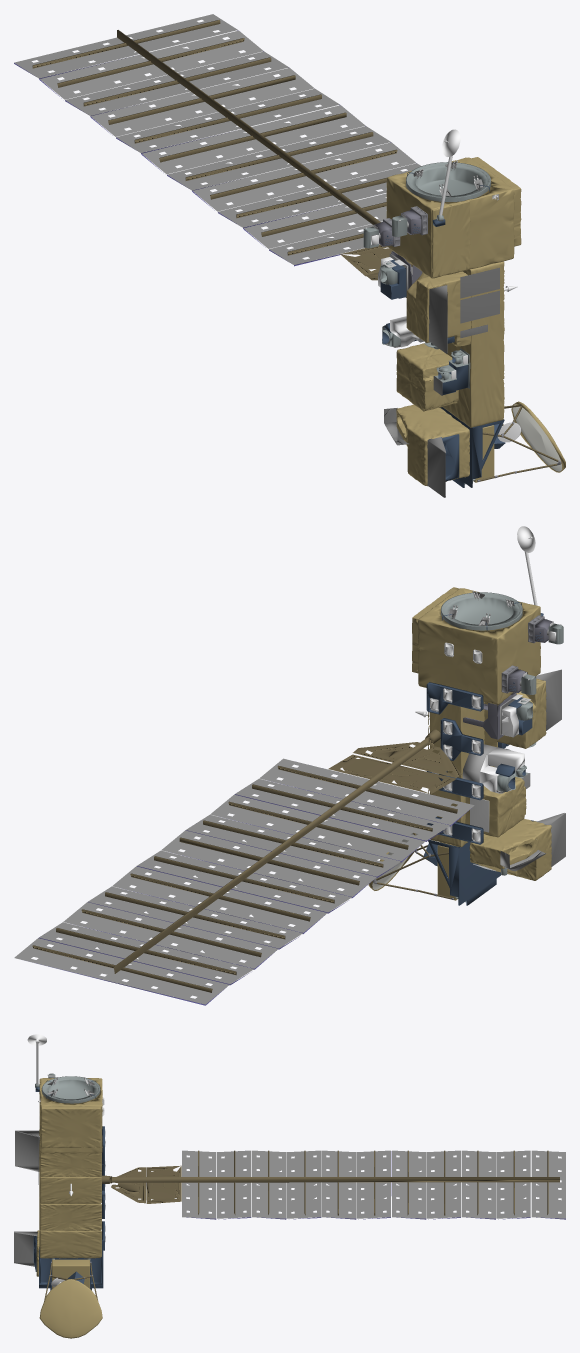
The model's file is aqua.glb.
3 views of the same model, one above another, from view 1: azimuth 30°, elevation 25°; view 2: azimuth 150°, elevation 25°; view 3: azimuth 270°, elevation 25° (orthographic). The views are drawn at different scales.
Visible parts, largest first — view 1: Aqua_Reduced_v0014 [Aqua_Layered_02 [Layer2]], Aqua_Reduced_v0014 [Aqua_Layered_02 [Layer3]], Aqua_Reduced_v0014 [Aqua_Layered_02 [Layer22]], Aqua_Reduced_v0014 [Aqua_Layered_02 [(unnamed)]], Aqua_Reduced_v0014 [Aqua_Layered_02 [Layer10]], Aqua_Reduced_v0014 [Aqua_Layered_02 [Layer9]], Aqua_Reduced_v0014 [Aqua_Layered_02 [Layer19]], Aqua_Reduced_v0014 [Aqua_Layered_02 [Layer20]], Aqua_Reduced_v0014 [Aqua_Layered_02 [Layer21]], Aqua_Reduced_v0014 [Aqua_Layered_02 [Layer14]], Aqua_Reduced_v0014 [Aqua_Layered_02 [Layer18]], Aqua_Reduced_v0014 [Aqua_Layered_02 [Layer16]] (+4 smaller); view 2: Aqua_Reduced_v0014 [Aqua_Layered_02 [Layer2]], Aqua_Reduced_v0014 [Aqua_Layered_02 [Layer3]], Aqua_Reduced_v0014 [Aqua_Layered_02 [Layer22]], Aqua_Reduced_v0014 [Aqua_Layered_02 [Layer9]], Aqua_Reduced_v0014 [Aqua_Layered_02 [Layer10]], Aqua_Reduced_v0014 [Aqua_Layered_02 [Layer19]], Aqua_Reduced_v0014 [Aqua_Layered_02 [Layer16]], Aqua_Reduced_v0014 [Aqua_Layered_02 [Layer4]], Aqua_Reduced_v0014 [Aqua_Layered_02 [Layer14]], Aqua_Reduced_v0014 [Aqua_Layered_02 [Layer17]], Aqua_Reduced_v0014 [Aqua_Layered_02 [(unnamed)]], Aqua_Reduced_v0014 [Aqua_Layered_02 [Layer20]] (+3 smaller); view 3: Aqua_Reduced_v0014 [Aqua_Layered_02 [Layer2]], Aqua_Reduced_v0014 [Aqua_Layered_02 [Layer23]], Aqua_Reduced_v0014 [Aqua_Layered_02 [Layer3]], Aqua_Reduced_v0014 [Aqua_Layered_02 [Layer22]], Aqua_Reduced_v0014 [Layer26], Aqua_Reduced_v0014 [Aqua_Layered_02 [Layer14]], Aqua_Reduced_v0014 [Aqua_Layered_02 [Layer9]], Aqua_Reduced_v0014 [Aqua_Layered_02 [Layer10]], Aqua_Reduced_v0014 [Layer24], Aqua_Reduced_v0014 [Aqua_Layered_02 [Layer16]], Aqua_Reduced_v0014 [Aqua_Layered_02 [(unnamed)]], Aqua_Reduced_v0014 [Aqua_Layered_02 [Layer4]].
Boxes of the visible parts, x1,y1,x2,y2 form: Aqua_Reduced_v0014 [Aqua_Layered_02 [Layer2]]: (14, 14, 421, 264); Aqua_Reduced_v0014 [Aqua_Layered_02 [Layer3]]: (32, 20, 422, 280); Aqua_Reduced_v0014 [Aqua_Layered_02 [Layer22]]: (386, 157, 521, 278); Aqua_Reduced_v0014 [Aqua_Layered_02 [(unnamed)]]: (429, 262, 503, 427); Aqua_Reduced_v0014 [Aqua_Layered_02 [Layer10]]: (363, 162, 490, 483); Aqua_Reduced_v0014 [Aqua_Layered_02 [Layer9]]: (380, 172, 505, 487); Aqua_Reduced_v0014 [Aqua_Layered_02 [Layer19]]: (396, 404, 469, 486); Aqua_Reduced_v0014 [Aqua_Layered_02 [Layer20]]: (396, 343, 458, 411); Aqua_Reduced_v0014 [Aqua_Layered_02 [Layer21]]: (406, 271, 471, 346); Aqua_Reduced_v0014 [Aqua_Layered_02 [Layer14]]: (384, 285, 447, 497); Aqua_Reduced_v0014 [Aqua_Layered_02 [Layer18]]: (460, 267, 499, 338); Aqua_Reduced_v0014 [Aqua_Layered_02 [Layer16]]: (371, 129, 521, 442); Aqua_Reduced_v0014 [Aqua_Layered_02 [Layer2]]: (14, 758, 474, 1004); Aqua_Reduced_v0014 [Aqua_Layered_02 [Layer3]]: (32, 729, 461, 992); Aqua_Reduced_v0014 [Aqua_Layered_02 [Layer22]]: (412, 587, 540, 704); Aqua_Reduced_v0014 [Aqua_Layered_02 [Layer9]]: (423, 602, 545, 905); Aqua_Reduced_v0014 [Aqua_Layered_02 [Layer10]]: (441, 592, 563, 901); Aqua_Reduced_v0014 [Aqua_Layered_02 [Layer19]]: (469, 819, 551, 880); Aqua_Reduced_v0014 [Aqua_Layered_02 [Layer16]]: (415, 526, 556, 842); Aqua_Reduced_v0014 [Aqua_Layered_02 [Layer4]]: (36, 783, 471, 1005); Aqua_Reduced_v0014 [Aqua_Layered_02 [Layer14]]: (500, 669, 565, 871); Aqua_Reduced_v0014 [Aqua_Layered_02 [Layer17]]: (430, 621, 561, 871); Aqua_Reduced_v0014 [Aqua_Layered_02 [(unnamed)]]: (430, 702, 494, 847); Aqua_Reduced_v0014 [Aqua_Layered_02 [Layer20]]: (465, 777, 526, 837); Aqua_Reduced_v0014 [Aqua_Layered_02 [Layer2]]: (182, 1150, 565, 1218); Aqua_Reduced_v0014 [Aqua_Layered_02 [Layer23]]: (40, 1151, 101, 1257); Aqua_Reduced_v0014 [Aqua_Layered_02 [Layer3]]: (101, 1150, 559, 1215); Aqua_Reduced_v0014 [Aqua_Layered_02 [Layer22]]: (39, 1078, 102, 1153); Aqua_Reduced_v0014 [Layer26]: (39, 1279, 102, 1338); Aqua_Reduced_v0014 [Aqua_Layered_02 [Layer14]]: (14, 1130, 39, 1266); Aqua_Reduced_v0014 [Aqua_Layered_02 [Layer9]]: (33, 1080, 104, 1290); Aqua_Reduced_v0014 [Aqua_Layered_02 [Layer10]]: (35, 1073, 100, 1261); Aqua_Reduced_v0014 [Layer24]: (52, 1259, 89, 1288); Aqua_Reduced_v0014 [Aqua_Layered_02 [Layer16]]: (27, 1034, 88, 1287); Aqua_Reduced_v0014 [Aqua_Layered_02 [(unnamed)]]: (39, 1139, 100, 1258); Aqua_Reduced_v0014 [Aqua_Layered_02 [Layer4]]: (186, 1151, 565, 1219).
Bounding box in the file's own units: 4.77 × 8.83 × 16.7.
